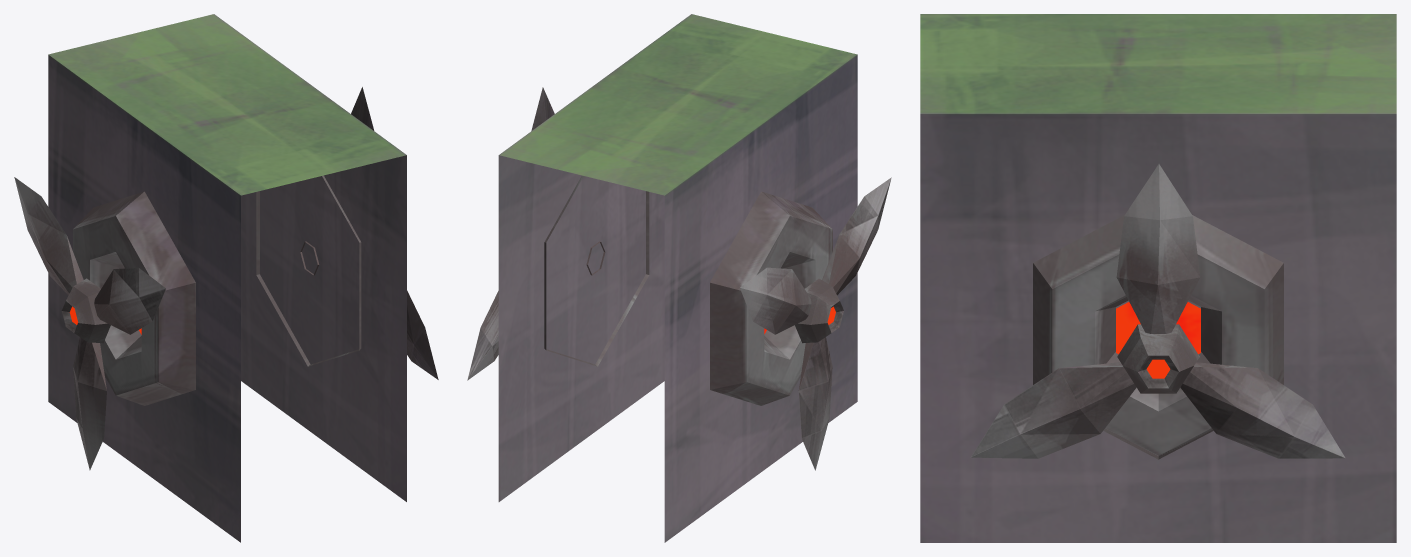
File: wall_fan.fbx
3 renders of one model, left to right at view 1: azimuth 30°, elevation 25°; view 2: azimuth 150°, elevation 25°; view 3: azimuth 270°, elevation 25°, orthographic. The views are drawn at different scales.
Parts seen in each view (by area): view 1: wall_fan_wall, wall_fan_mount2, prop_blades3 (×2), prop_blades1, prop_blades2, prop_center, wall_fan_mount1; view 2: wall_fan_wall, wall_fan_mount2, prop_blades2 (×2), prop_blades1, prop_blades3, prop_center, wall_fan_mount1; view 3: wall_fan_wall, wall_fan_mount1, prop_blades1, prop_blades2, prop_blades3, prop_center, wallprop_mount_red2.
Boxes of the visible parts, x1=… form: wall_fan_wall: x1=48, y1=14, x2=406, y2=542; wall_fan_mount2: x1=73, y1=191, x2=195, y2=405; prop_blades3 (×2): x1=94, y1=267, x2=438, y2=379; prop_blades1: x1=73, y1=337, x2=106, y2=470; prop_blades2: x1=14, y1=177, x2=83, y2=294; prop_center: x1=61, y1=278, x2=110, y2=343; wall_fan_mount1: x1=256, y1=175, x2=361, y2=366; wall_fan_wall: x1=498, y1=14, x2=857, y2=542; wall_fan_mount2: x1=710, y1=191, x2=832, y2=405; prop_blades2 (×2): x1=467, y1=267, x2=811, y2=380; prop_blades1: x1=798, y1=337, x2=832, y2=470; prop_blades3: x1=822, y1=177, x2=891, y2=295; prop_center: x1=795, y1=278, x2=843, y2=343; wall_fan_mount1: x1=544, y1=175, x2=649, y2=366; wall_fan_wall: x1=920, y1=14, x2=1396, y2=542; wall_fan_mount1: x1=1033, y1=215, x2=1283, y2=459; prop_blades1: x1=1116, y1=164, x2=1200, y2=333; prop_blades2: x1=1180, y1=362, x2=1345, y2=458; prop_blades3: x1=971, y1=362, x2=1136, y2=458; prop_center: x1=1117, y1=324, x2=1199, y2=393; wallprop_mount_red2: x1=1116, y1=302, x2=1200, y2=354.
Bounding box in the file's own units: 0.0188 × 0.02 × 0.0201.
